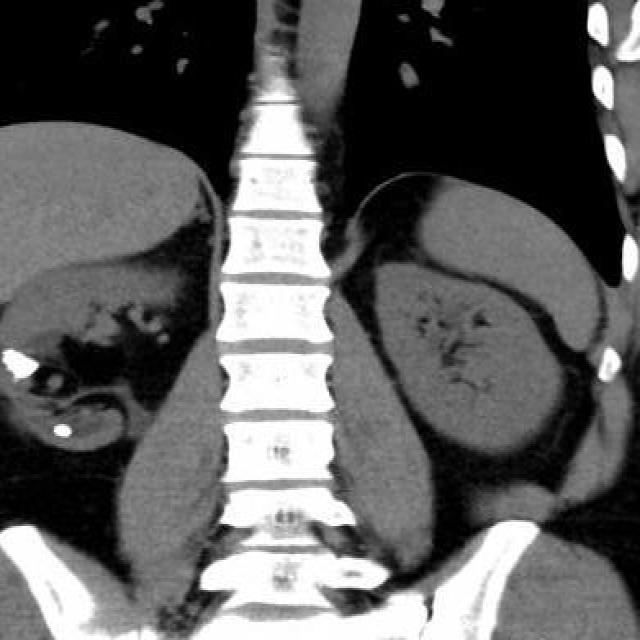Tas_Var: (1, 344, 43, 384), (52, 421, 74, 441)
